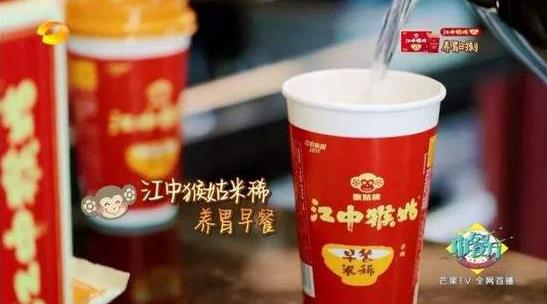cup: (283, 67, 442, 304), (67, 1, 189, 227)
